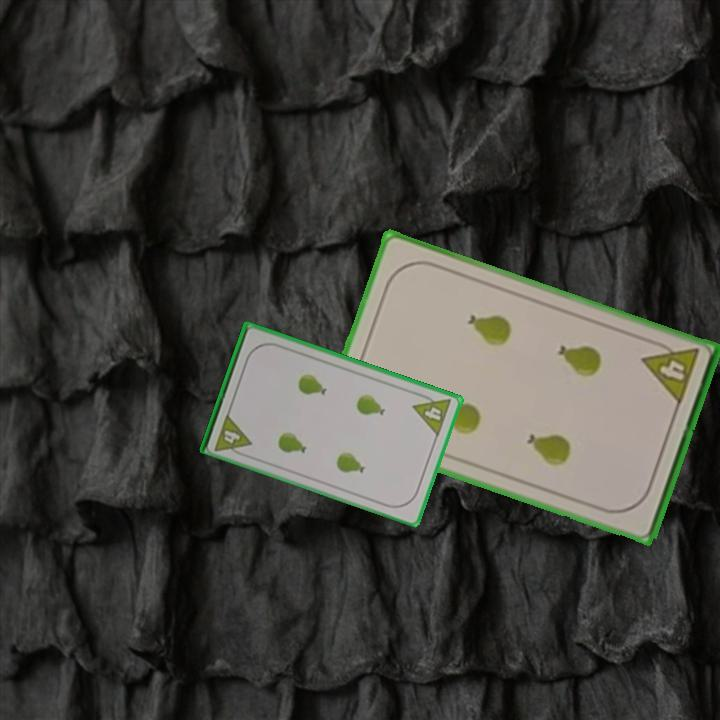4p: (638, 336, 702, 408), (409, 389, 454, 439), (211, 409, 254, 460)
